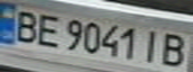0: (78, 19, 103, 55)
1: (118, 24, 142, 61)
4: (100, 21, 124, 59)
9: (57, 16, 84, 53)
B: (157, 30, 193, 69), (6, 7, 42, 44)
E: (30, 11, 63, 48)
I: (139, 26, 166, 64)
